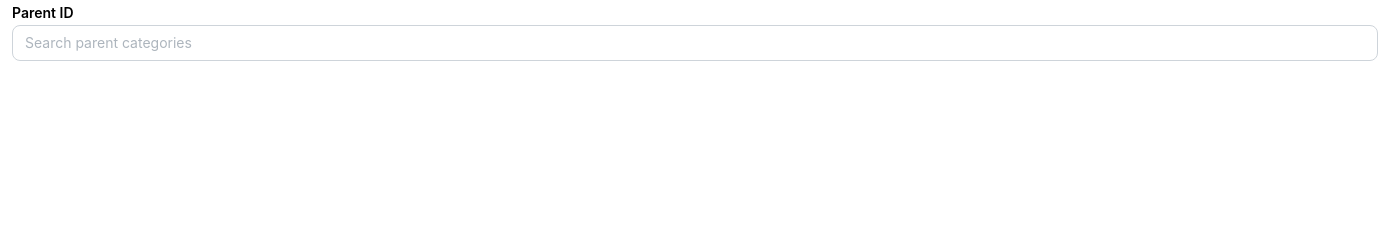
Test case: CategoryParentPicker › closes with Escape without changing the selected value
This screenshot has width=1390, height=230.
Click the dropdown labelled "Parent ID".
click(695, 43)  # box [12,25,1378,61]
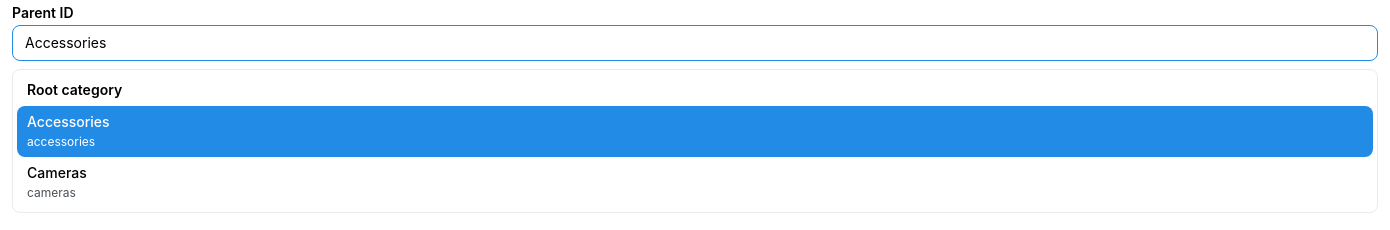
Now the option "Cameras cameras" is shown, box [27,164,87,200]
Press Arrowdown Escape
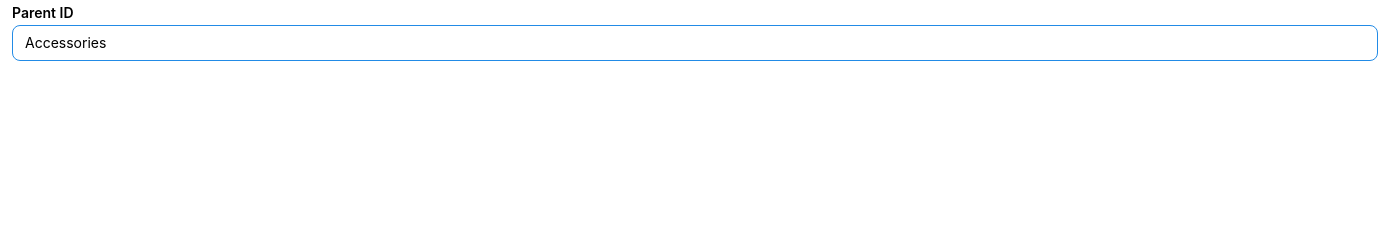
Now the dropdown labelled "Parent ID" holds "Accessories", box [12,25,1378,61]
Now the option "Cameras" is gone
